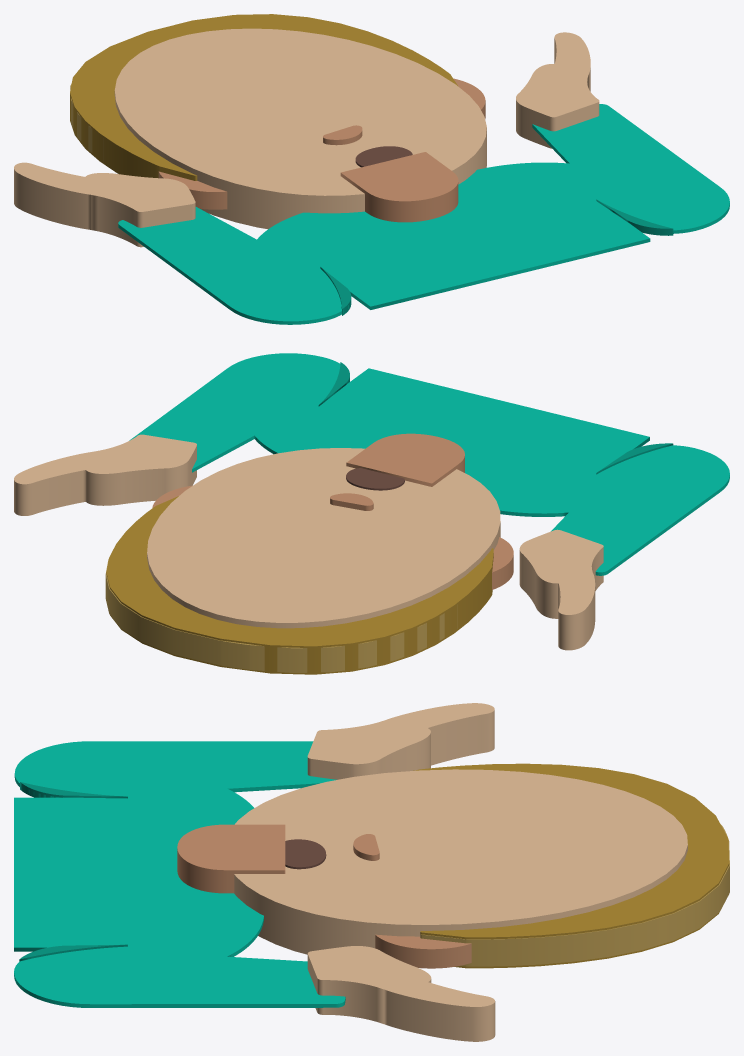
The model's file is emoji_u1f937_1f3fc_200d_2642.glb.
3 renders of one model, top to bottom at view 1: azimuth 30°, elevation 25°; view 2: azimuth 150°, elevation 25°; view 3: azimuth 270°, elevation 25°, orthographic. The views are drawn at different scales.
Visible parts, largest first — view 1: emoji_u1f937_1f3fc_200d_2642; view 2: emoji_u1f937_1f3fc_200d_2642; view 3: emoji_u1f937_1f3fc_200d_2642.
Part boxes in pixels (x1,y1,x2,y2): emoji_u1f937_1f3fc_200d_2642: (14,14,729,324); emoji_u1f937_1f3fc_200d_2642: (14,353,729,674); emoji_u1f937_1f3fc_200d_2642: (14,703,729,1041).
Size of the model in its own units: 0.0335 by 0.0028 by 0.0336.
